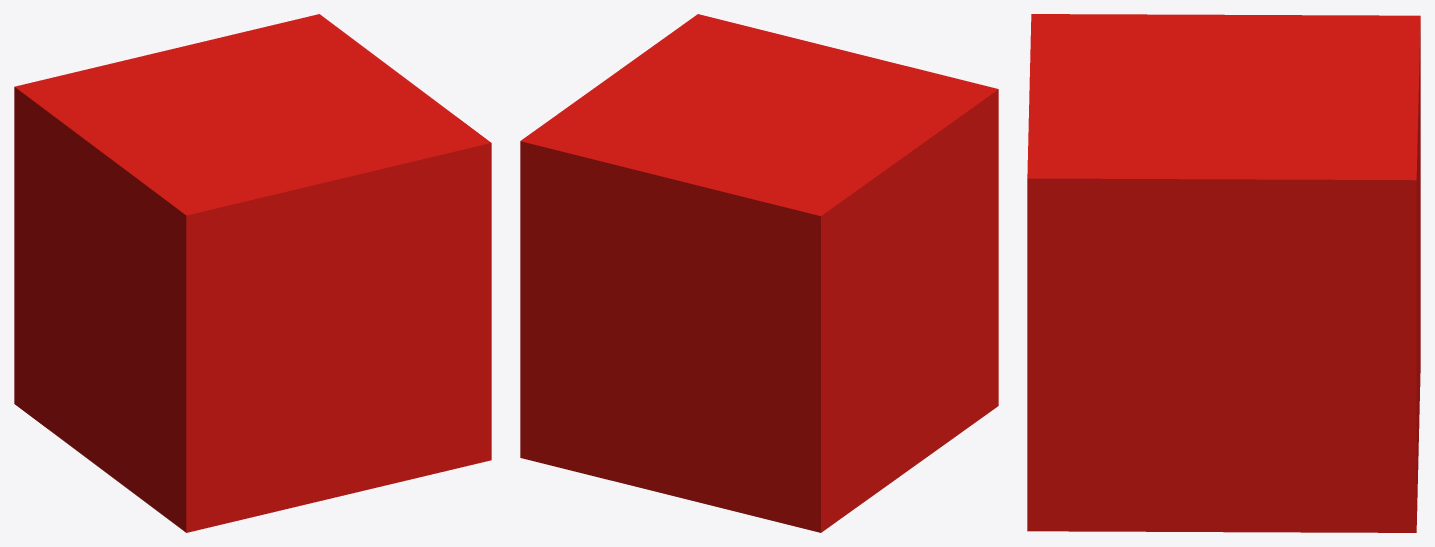
File: MBZIRC_redCube.dae
3 renders of one model, left to right at view 1: azimuth 30°, elevation 25°; view 2: azimuth 150°, elevation 25°; view 3: azimuth 270°, elevation 25°, orthographic. The views are drawn at different scales.
Visible parts, largest first — view 1: Cube_067; view 2: Cube_067; view 3: Cube_067.
Part boxes in pixels (x1,y1,x2,y2): Cube_067: (14,14,491,532); Cube_067: (520,14,998,532); Cube_067: (1027,14,1420,532).
Size of the model in its own units: 0.5505 by 0.5505 by 0.545.
